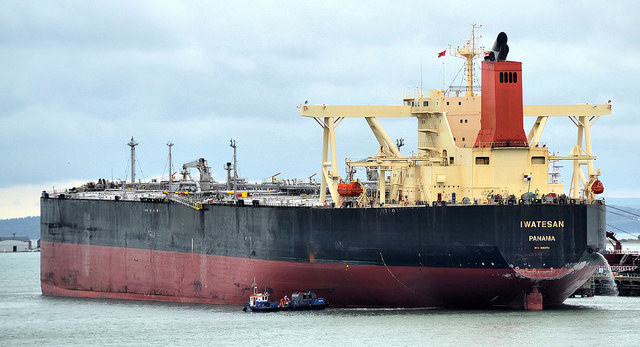boat: (237, 282, 329, 314)
tanker: (36, 27, 613, 310)
